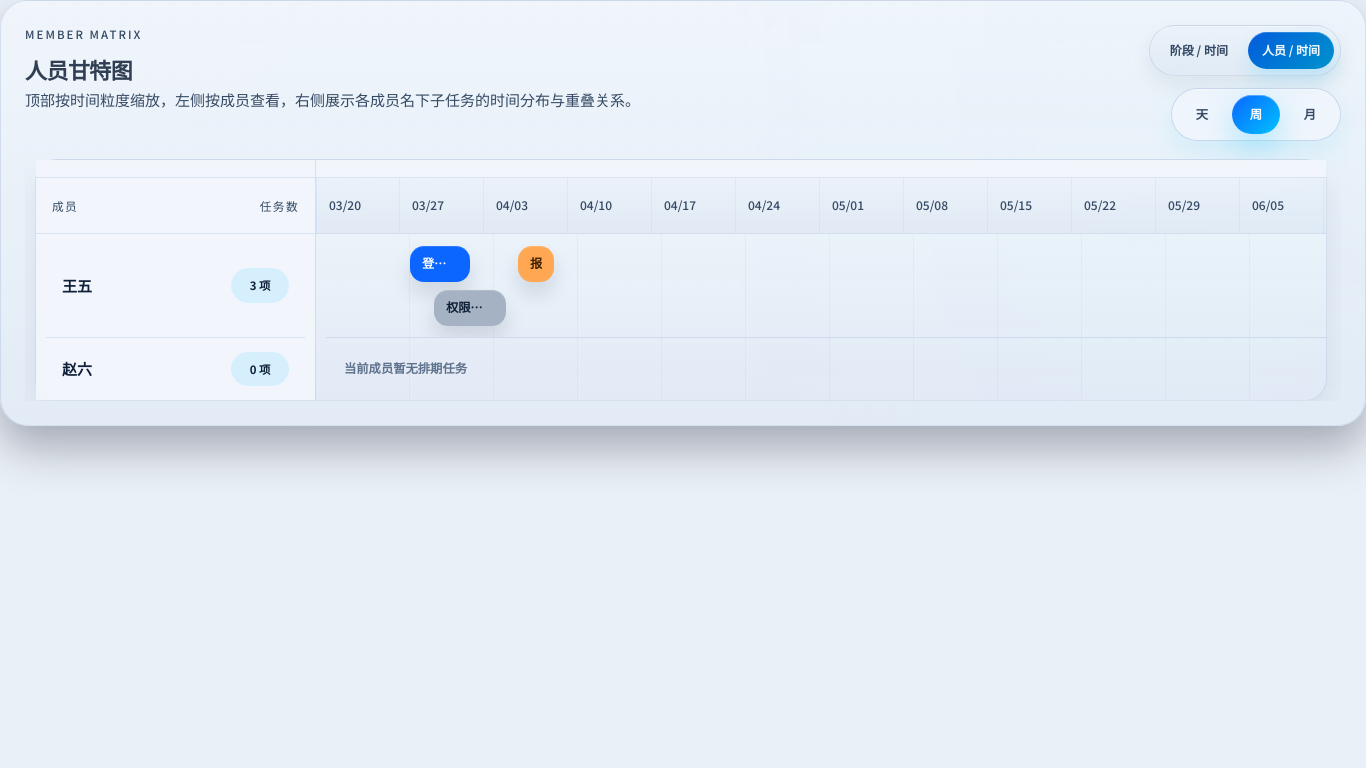
Test: ProjectMemberGanttView › keeps the fixed member subtask detail card visible while moving from the bar into the card
Hover over the button with test id "project-member-gantt-bar-4001" at coordinates (440, 264), box [410, 246, 470, 282]
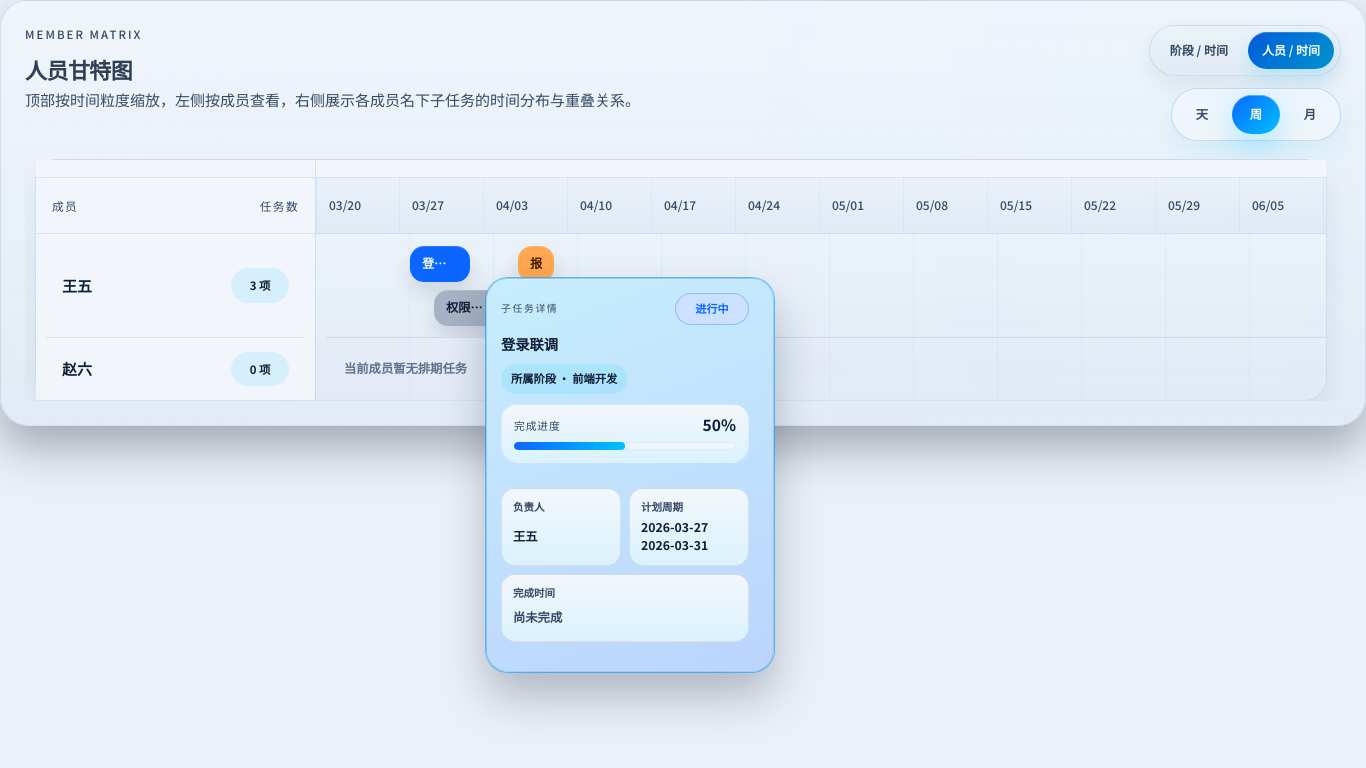
Now the element with test id "project-member-gantt-detail-card" is shown, box [486, 278, 774, 672]
Move the pointer off the button with test id "project-member-gantt-bar-4001", box [410, 246, 470, 282]
Now the element with test id "project-member-gantt-detail-card" is shown
Hover over the element with test id "project-member-gantt-detail-card" at coordinates (630, 475), box [486, 278, 774, 672]
Now the element with test id "project-member-gantt-detail-card" is shown
Move the pointer off the element with test id "project-member-gantt-detail-card", box [486, 278, 774, 672]
Wait 240 ms
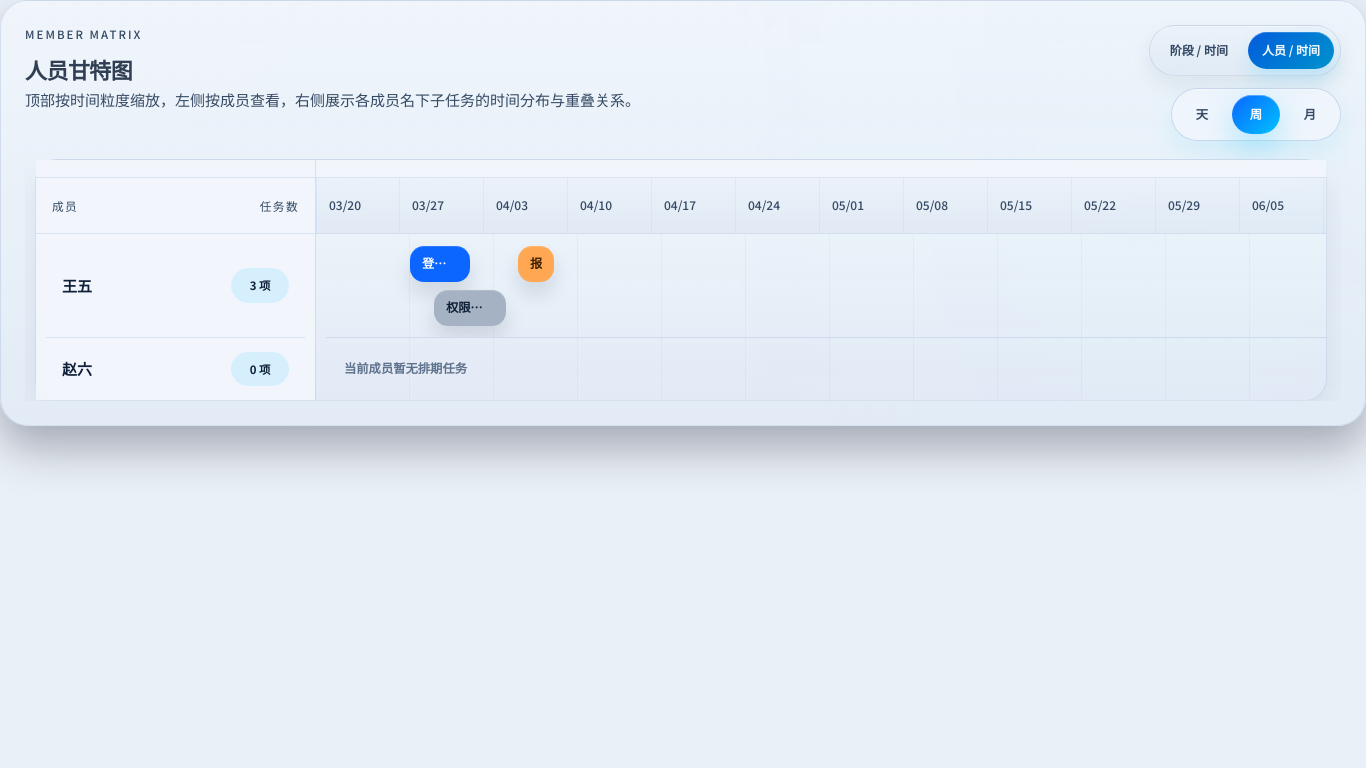
Now the element with test id "project-member-gantt-detail-card" is gone
